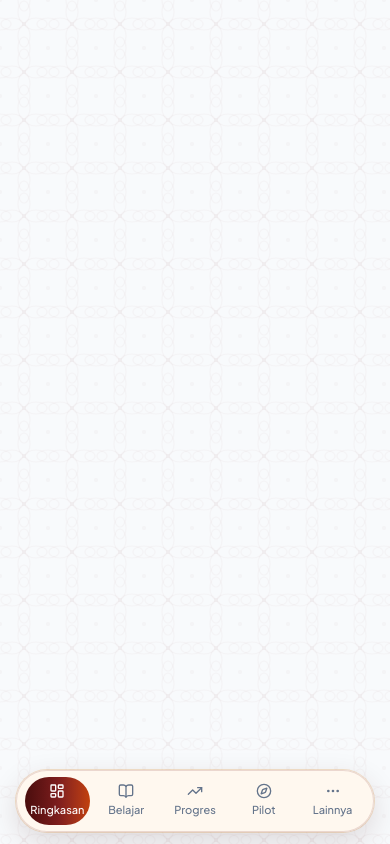
Test: RoleIconRail 4-role adaptive navigation › toggles mobile drawer smoothly with accessible expanded state
Step 1. Click the button with aria-label "Menu lainnya" → click(333, 801), box [300, 777, 365, 825]
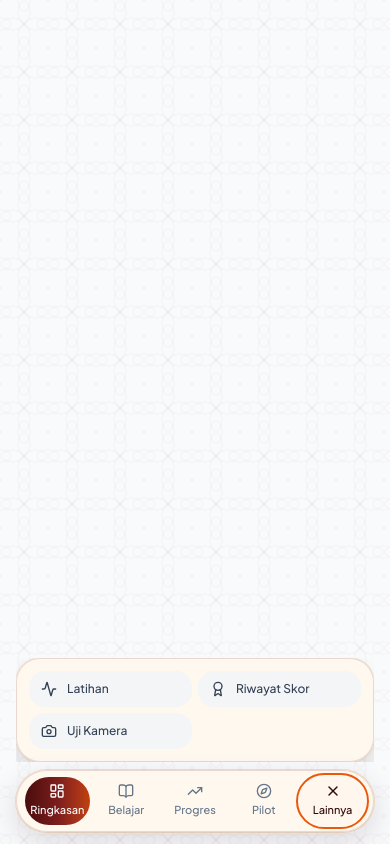
Now the button with aria-label "Menu lainnya" is expanded, box [300, 777, 365, 825]
